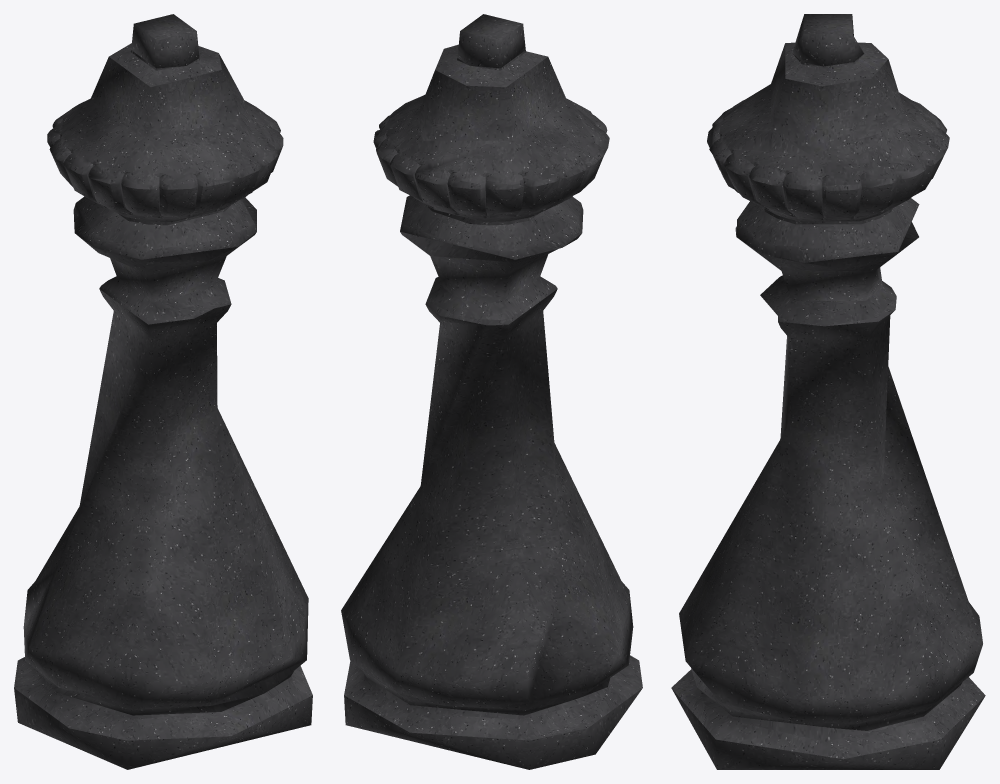
File: dama_cerna.glb
3 renders of one model, left to right at view 1: azimuth 30°, elevation 25°; view 2: azimuth 150°, elevation 25°; view 3: azimuth 270°, elevation 25°, orthographic. The views are drawn at different scales.
Parts seen in each view (by area): view 1: dama_cerna; view 2: dama_cerna; view 3: dama_cerna.
Part boxes in pixels (box(x1,y1,x2,y2)): dama_cerna: box(14, 14, 312, 769); dama_cerna: box(341, 14, 642, 769); dama_cerna: box(671, 14, 985, 769).
Size of the model in its own units: 0.034 by 0.0849 by 0.0341.
1 material, 1 textured.
